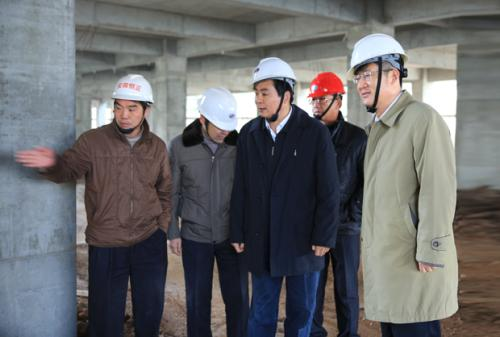hard-hat: (347, 33, 408, 77), (198, 86, 238, 130), (251, 57, 297, 91), (111, 73, 154, 104), (307, 71, 346, 98)
person: (13, 73, 174, 337), (347, 32, 460, 336), (227, 55, 340, 337), (166, 86, 249, 337)
ppe-suit: (228, 104, 340, 278)
